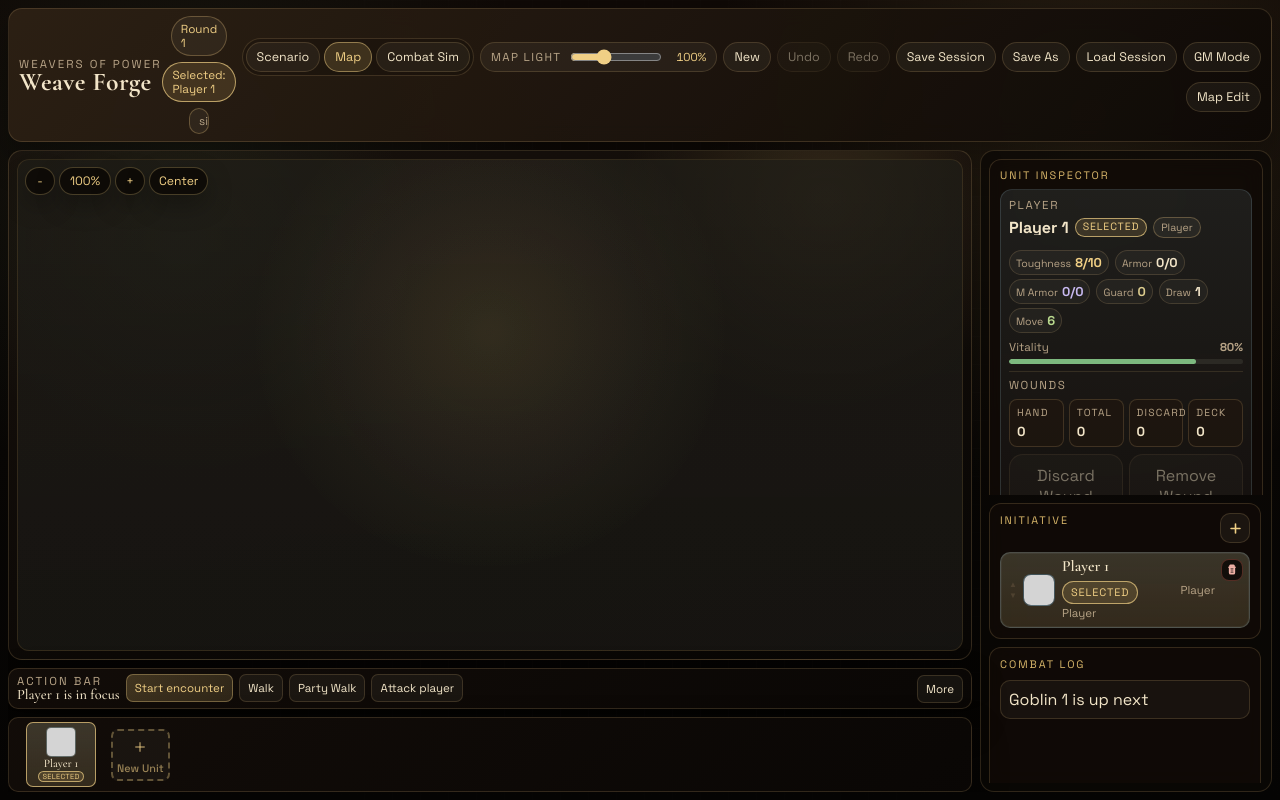
Test: App › shows player attack and heal actions in the action bar
The width and height of the screenshot is (1280, 800).
Click the button "Attack player" at (417, 688), box [372,674,463,702]
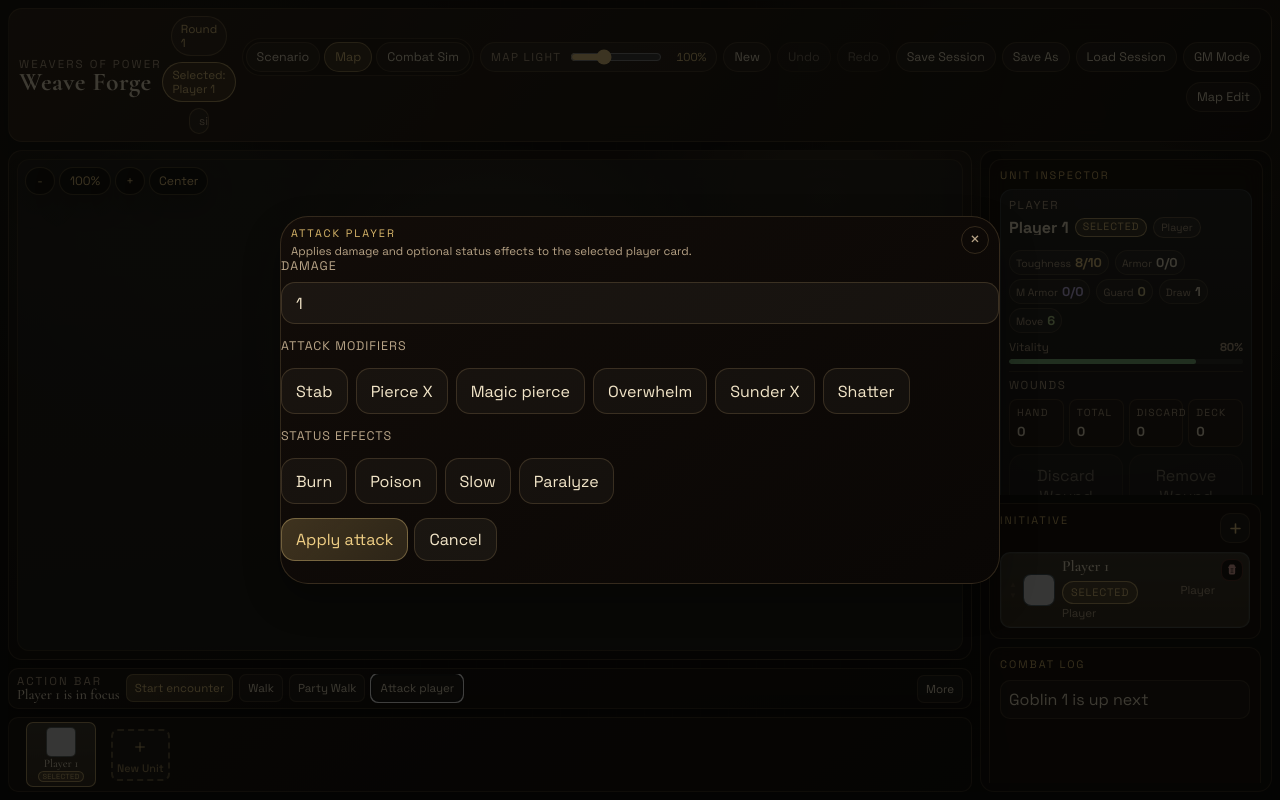
Click the button "Cancel" at (456, 540), box [414,518,497,561]
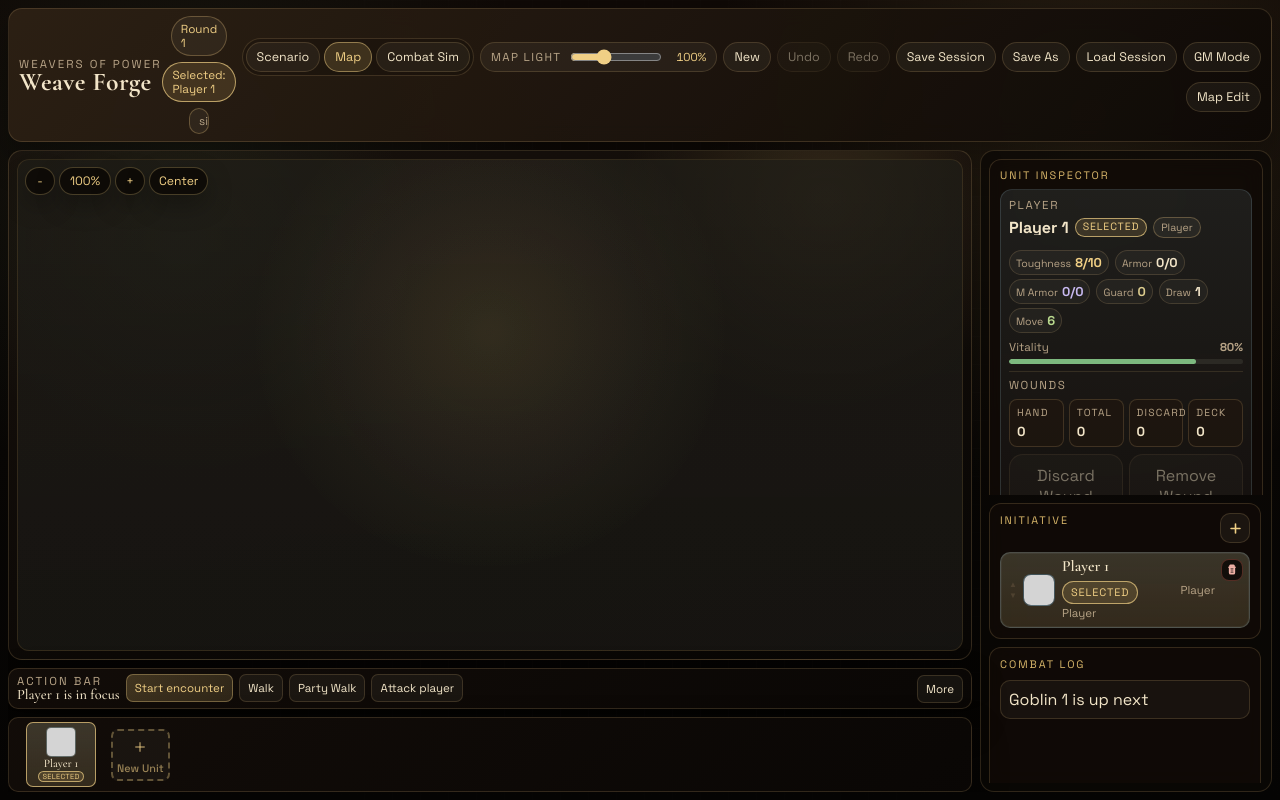
Click the button "More" at (940, 689), box [917,675,963,703]
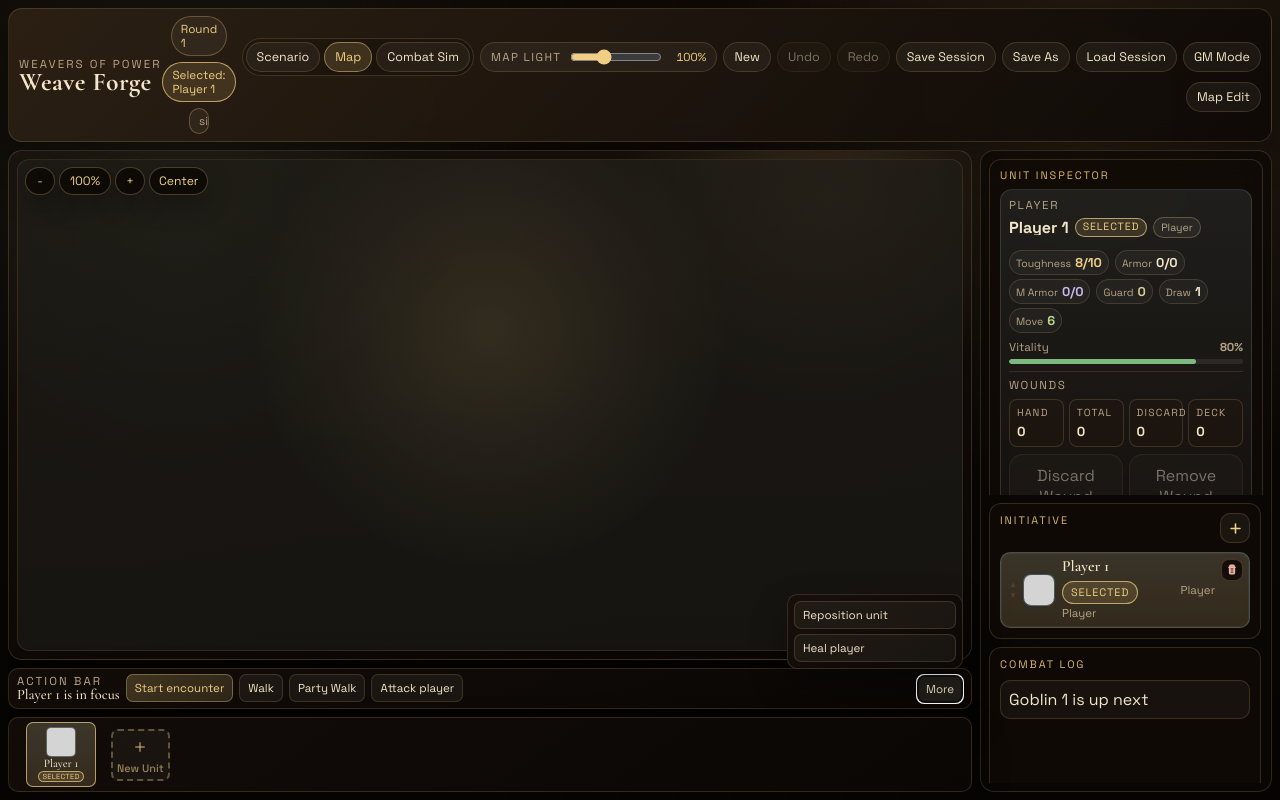
Expected: the menu item "Heal player" is shown, [794,634,956,662]
